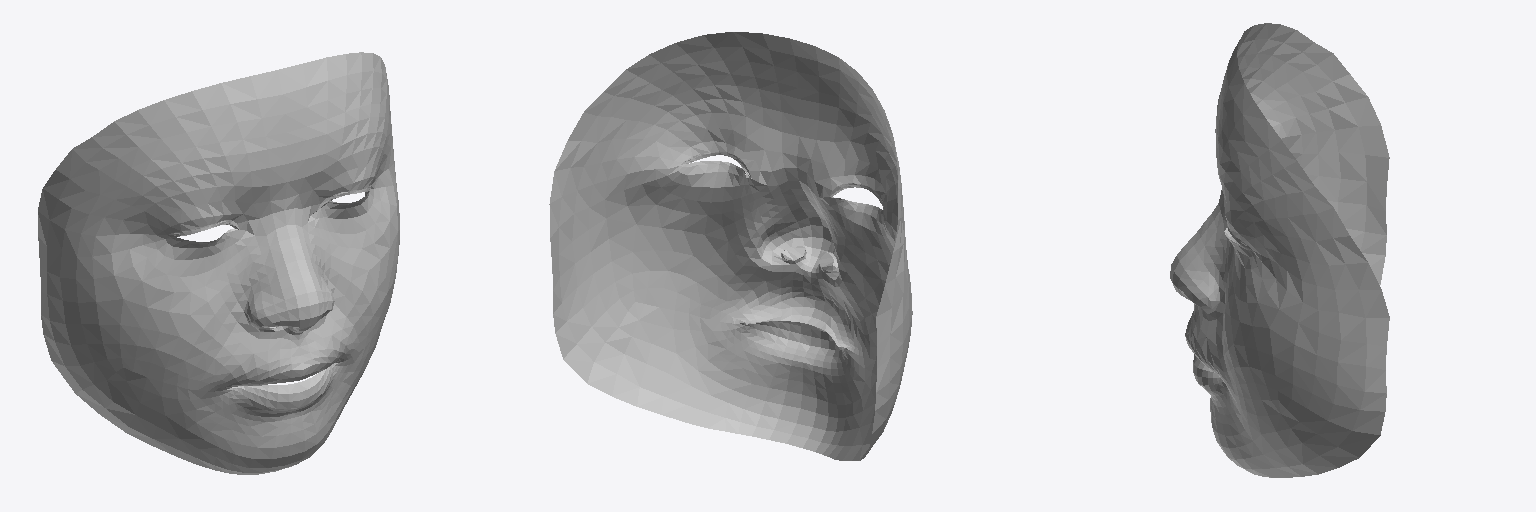
The model's file is eyeSquint_L.obj.
3 renders of one model, left to right at view 1: azimuth 30°, elevation 25°; view 2: azimuth 150°, elevation 25°; view 3: azimuth 270°, elevation 25°, orthographic.
Visible parts, largest first — view 1: default; view 2: default; view 3: default.
Part boxes in pixels (x1,y1,x2,y2): default: (38,52,399,474); default: (549,32,912,460); default: (1170,23,1389,477).
Bounding box in the file's own units: 0.1624 × 0.1851 × 0.0913.